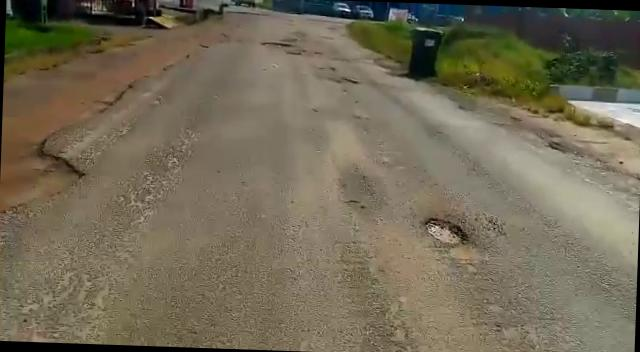pothole: (420, 214, 476, 250), (329, 75, 363, 85)
